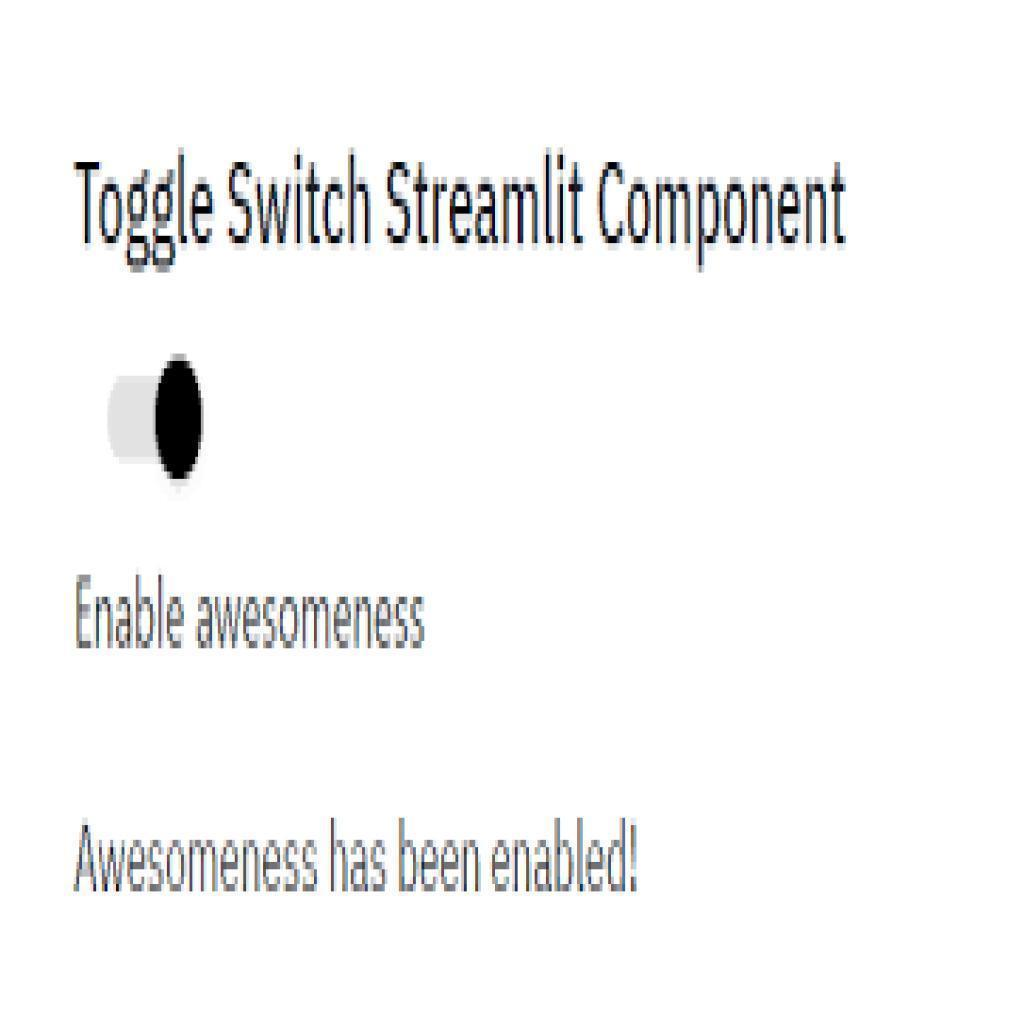label: (69, 151, 851, 275), (66, 816, 647, 899), (67, 569, 427, 651)
switch: (106, 353, 205, 489)
